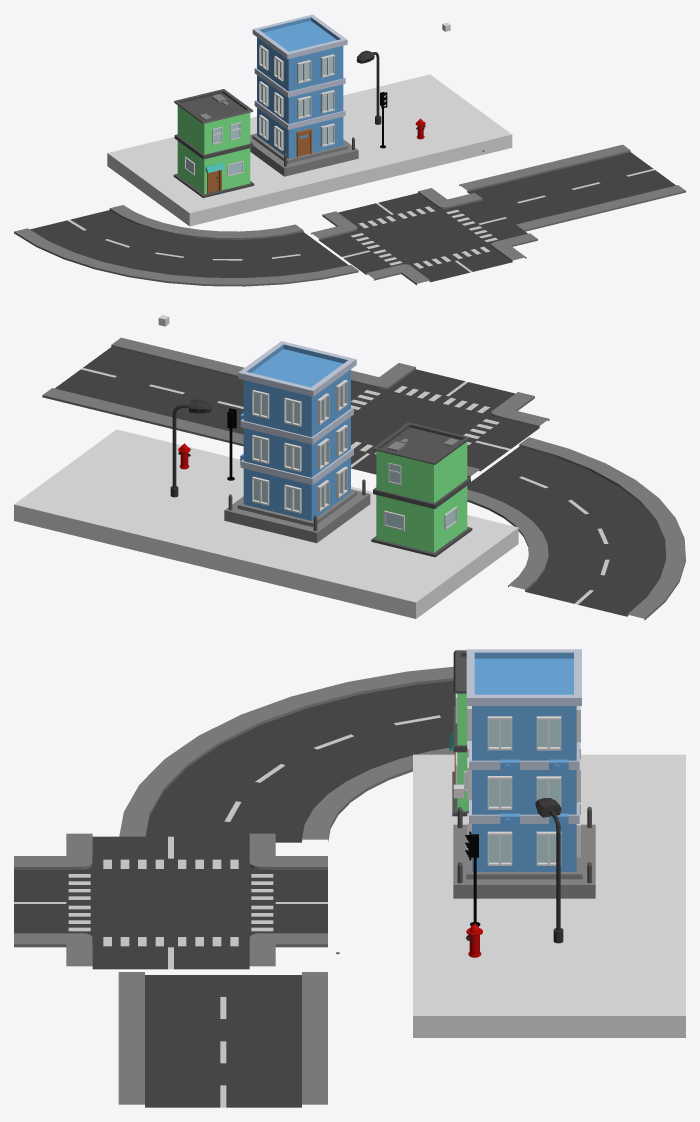
File: city_assets.fbx
3 views of the same model, one above another, from view 1: azimuth 30°, elevation 25°; view 2: azimuth 150°, elevation 25°; view 3: azimuth 270°, elevation 25° (orthographic). The views are drawn at different scales.
Parts seen in each view (by area): view 1: Foundation, Curve Road, Intersection, Building.001, Straight Road, Building, Street Light; view 2: Foundation, Curve Road, Building.001, Intersection, Straight Road, Building, Street Light; view 3: Foundation, Intersection, Curve Road, Building.001, Straight Road, Building, Street Light.
Part boxes in pixels (left/top/right/bottom): Foundation: left=107, top=74, right=512, bottom=226; Curve Road: left=14, top=205, right=358, bottom=286; Intersection: left=311, top=188, right=537, bottom=285; Building.001: left=250, top=14, right=358, bottom=176; Straight Road: left=459, top=144, right=685, bottom=231; Building: left=173, top=89, right=484, bottom=198; Street Light: left=356, top=50, right=381, bottom=124; Foundation: left=14, top=429, right=518, bottom=618; Curve Road: left=467, top=437, right=685, bottom=620; Building.001: left=224, top=341, right=370, bottom=543; Intersection: left=351, top=363, right=549, bottom=478; Straight Road: left=42, top=337, right=244, bottom=446; Building: left=371, top=422, right=472, bottom=557; Street Light: left=170, top=399, right=211, bottom=497; Foundation: left=413, top=754, right=685, bottom=1037; Intersection: left=14, top=833, right=327, bottom=969; Curve Road: left=119, top=666, right=455, bottom=842; Building.001: left=453, top=649, right=595, bottom=898; Straight Road: left=118, top=972, right=327, bottom=1107; Building: left=336, top=650, right=468, bottom=954; Street Light: left=535, top=798, right=563, bottom=943.
Size of the model in its own units: 19980 by 4646 by 12839.
